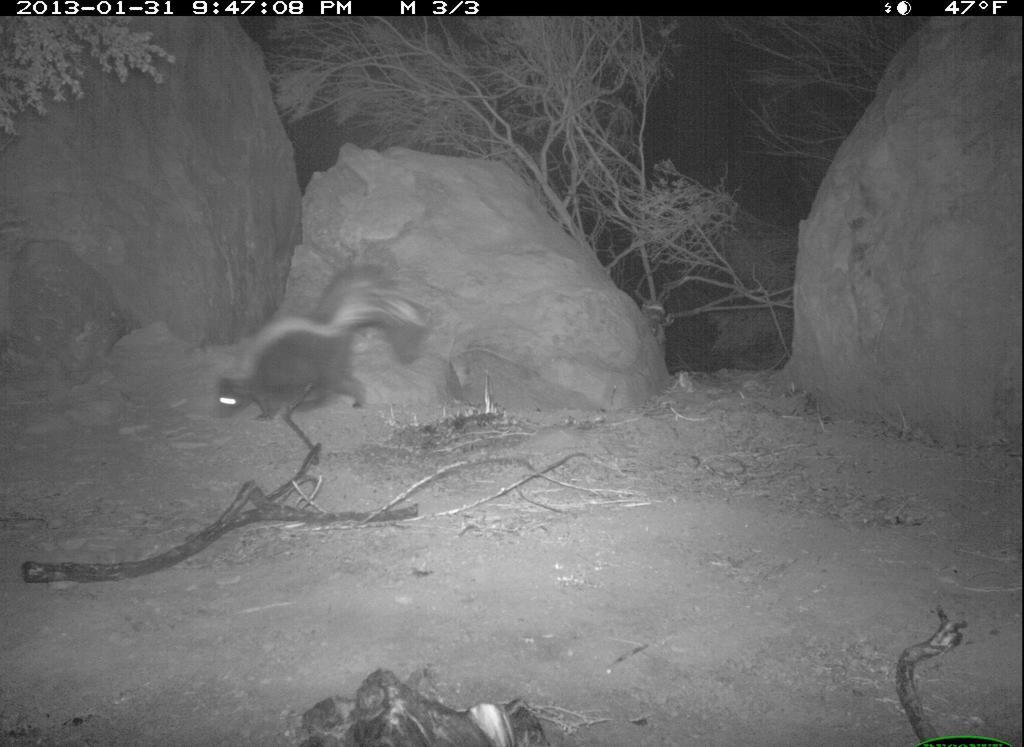skunk: (208, 255, 440, 431)
